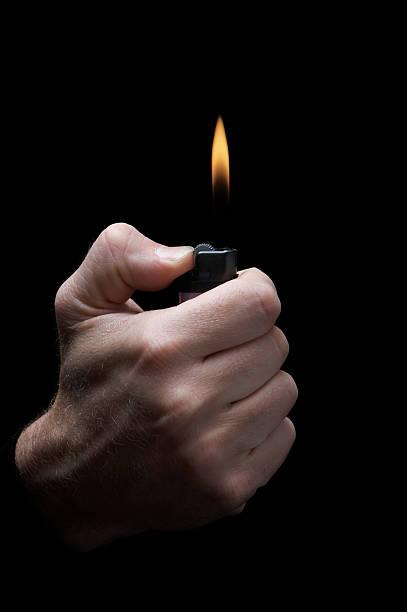Fire: (208, 112, 232, 243)
